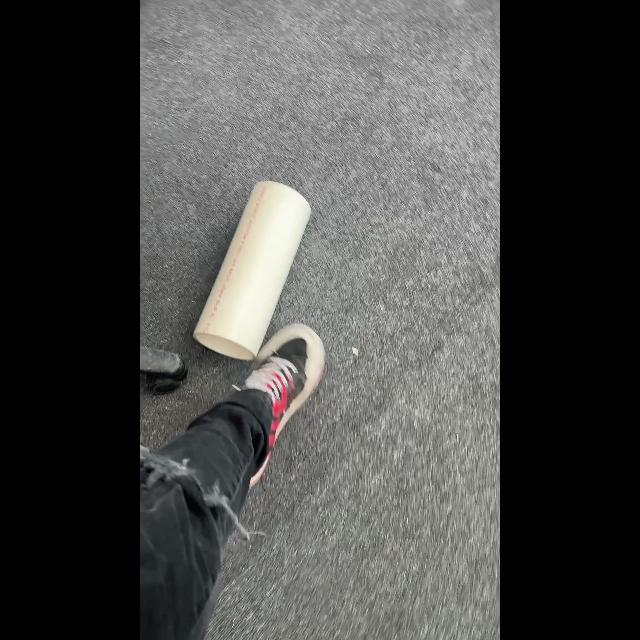CORAL: (192, 179, 312, 361)
